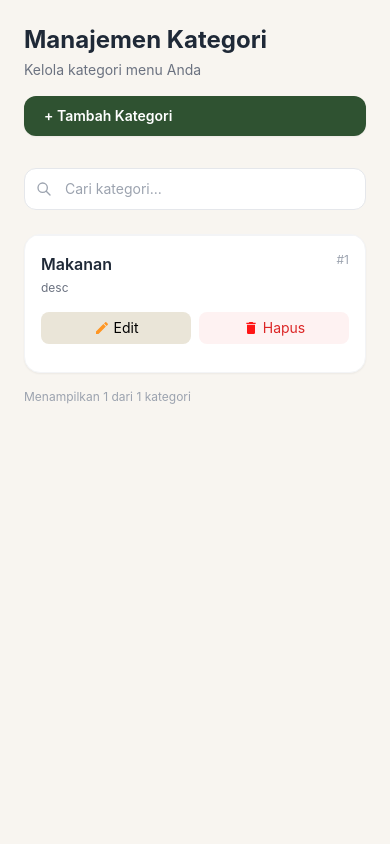
Test: Categories Page › modal edit terisi data kategori
Click the button "Edit".
click(116, 328)  # box [41,312,191,344]
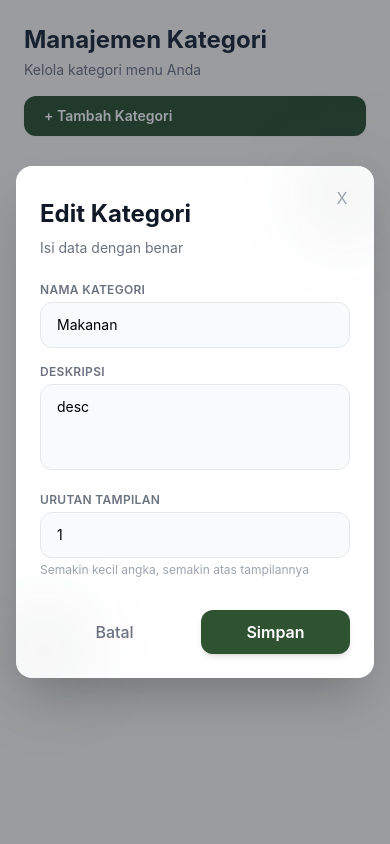
Expected: the field showing "Makanan" is shown, [40,302,350,348]
Expected: the text box showing "desc" is shown, [40,384,350,470]
